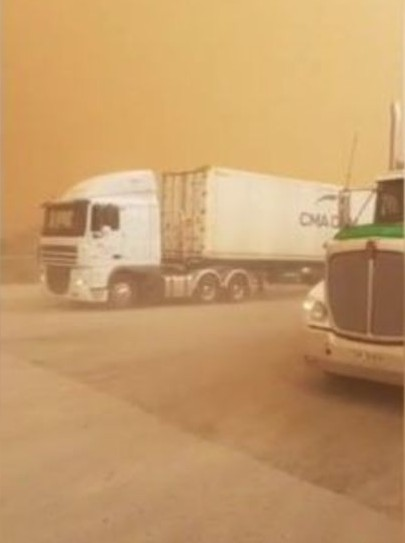truck: (34, 165, 374, 305), (306, 77, 403, 405)
